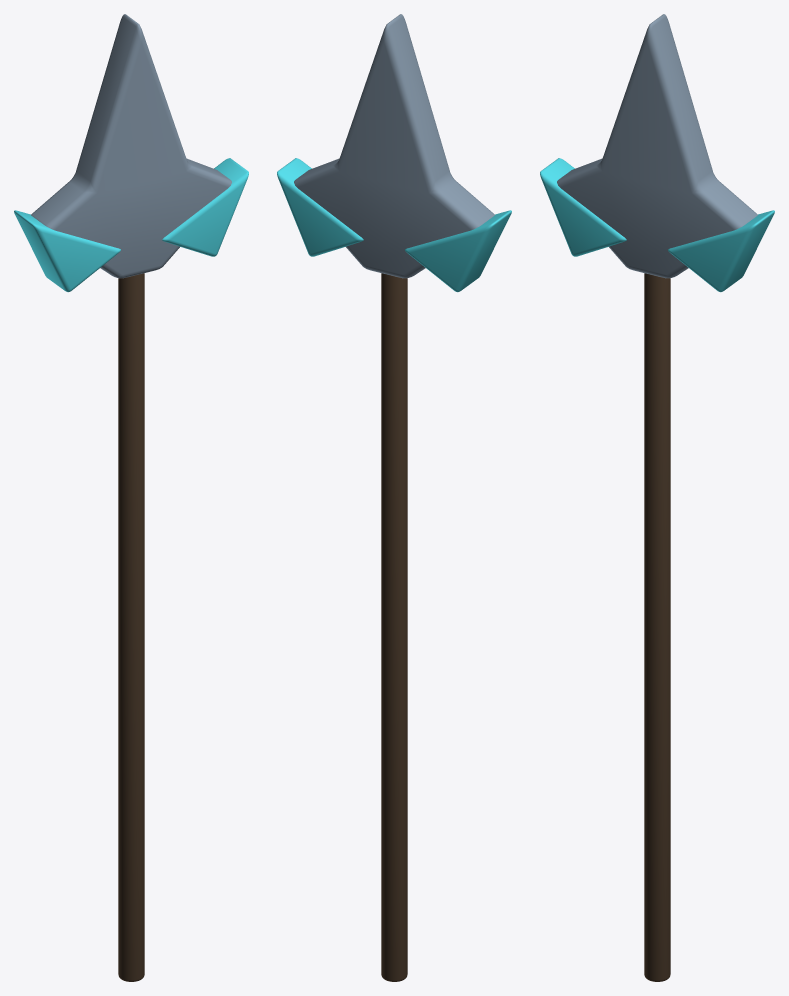
Rendered from spear_v4.glb.
3 views of the same model, side by side, from view 1: azimuth 30°, elevation 25°; view 2: azimuth 150°, elevation 25°; view 3: azimuth 330°, elevation 25° (orthographic).
Parts seen in each view (by area): view 1: PARTISAN_SPEARHEAD_PRIMARY, POLE_SECONDARY, PARTISAN_WING_ACCENT, PARTISAN_WING_ACCENT.001; view 2: PARTISAN_SPEARHEAD_PRIMARY, POLE_SECONDARY, PARTISAN_WING_ACCENT, PARTISAN_WING_ACCENT.001; view 3: PARTISAN_SPEARHEAD_PRIMARY, POLE_SECONDARY, PARTISAN_WING_ACCENT.001, PARTISAN_WING_ACCENT.
Boxes of the visible parts, bbox=[...] form: PARTISAN_SPEARHEAD_PRIMARY: bbox=[31, 14, 231, 278]; POLE_SECONDARY: bbox=[118, 273, 144, 981]; PARTISAN_WING_ACCENT: bbox=[14, 210, 120, 292]; PARTISAN_WING_ACCENT.001: bbox=[162, 158, 248, 256]; PARTISAN_SPEARHEAD_PRIMARY: bbox=[294, 14, 494, 278]; POLE_SECONDARY: bbox=[381, 273, 407, 981]; PARTISAN_WING_ACCENT: bbox=[405, 210, 511, 292]; PARTISAN_WING_ACCENT.001: bbox=[277, 158, 363, 256]; PARTISAN_SPEARHEAD_PRIMARY: bbox=[557, 14, 757, 278]; POLE_SECONDARY: bbox=[644, 273, 670, 981]; PARTISAN_WING_ACCENT.001: bbox=[668, 210, 774, 292]; PARTISAN_WING_ACCENT: bbox=[540, 158, 626, 256].
Bounding box in the file's own units: 1.22 × 5.18 × 0.23.
